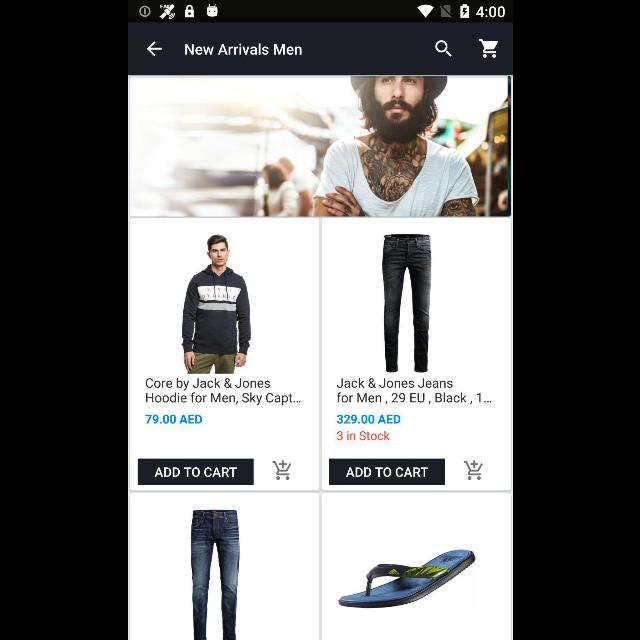icon: (463, 460, 482, 480), (478, 40, 498, 59), (272, 460, 290, 480), (434, 41, 452, 58), (146, 41, 162, 57)
image: (130, 76, 510, 216), (181, 234, 251, 374), (337, 550, 475, 608), (382, 234, 431, 374), (190, 510, 240, 640)
text: (144, 378, 300, 406), (336, 378, 490, 404), (185, 44, 302, 56), (336, 414, 399, 424), (144, 414, 202, 424), (336, 432, 389, 441)
textbutton: (329, 459, 445, 485), (137, 459, 253, 485)
toolbar: (128, 23, 512, 72)
uppertaskbar: (128, 1, 512, 23)
